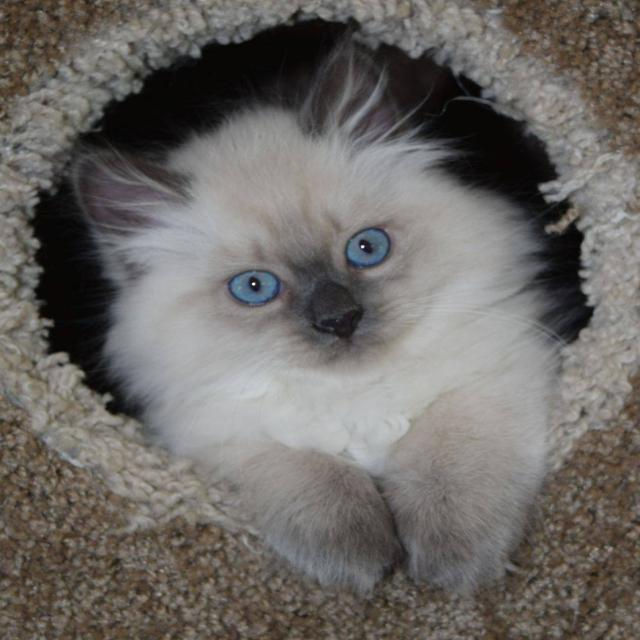Neva Masquerade: (57, 37, 563, 601)
